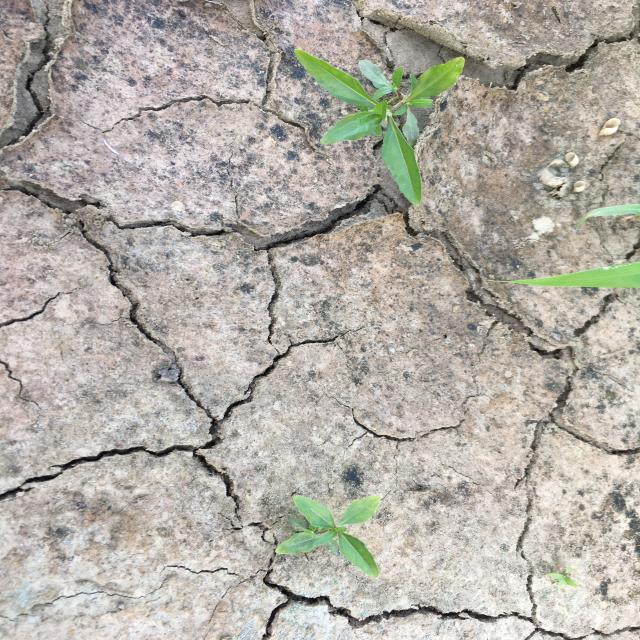Eclipta: (292, 49, 467, 207), (273, 493, 384, 580)
